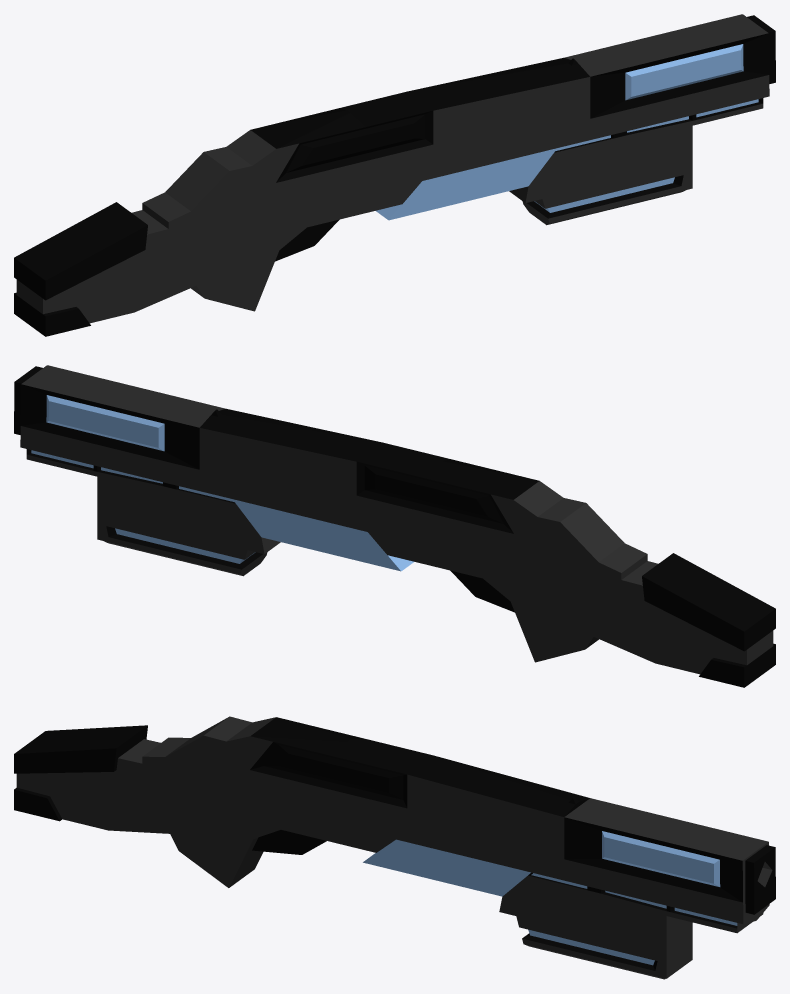
The model's file is shotgun.fbx.
3 views of the same model, one above another, from view 1: azimuth 30°, elevation 25°; view 2: azimuth 150°, elevation 25°; view 3: azimuth 330°, elevation 25° (orthographic).
Visible parts, largest first — view 1: Cube; view 2: Cube; view 3: Cube.
Part boxes in pixels (x1,y1,x2,y2): Cube: (14,14,775,336); Cube: (14,365,775,687); Cube: (14,716,775,979).
Bounding box in the file's own units: 816 × 174 × 60.6.
